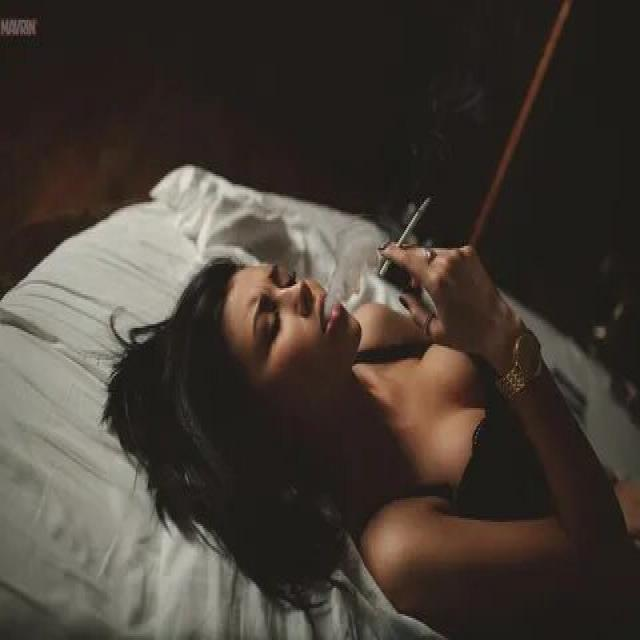cigarette: (375, 190, 436, 284)
